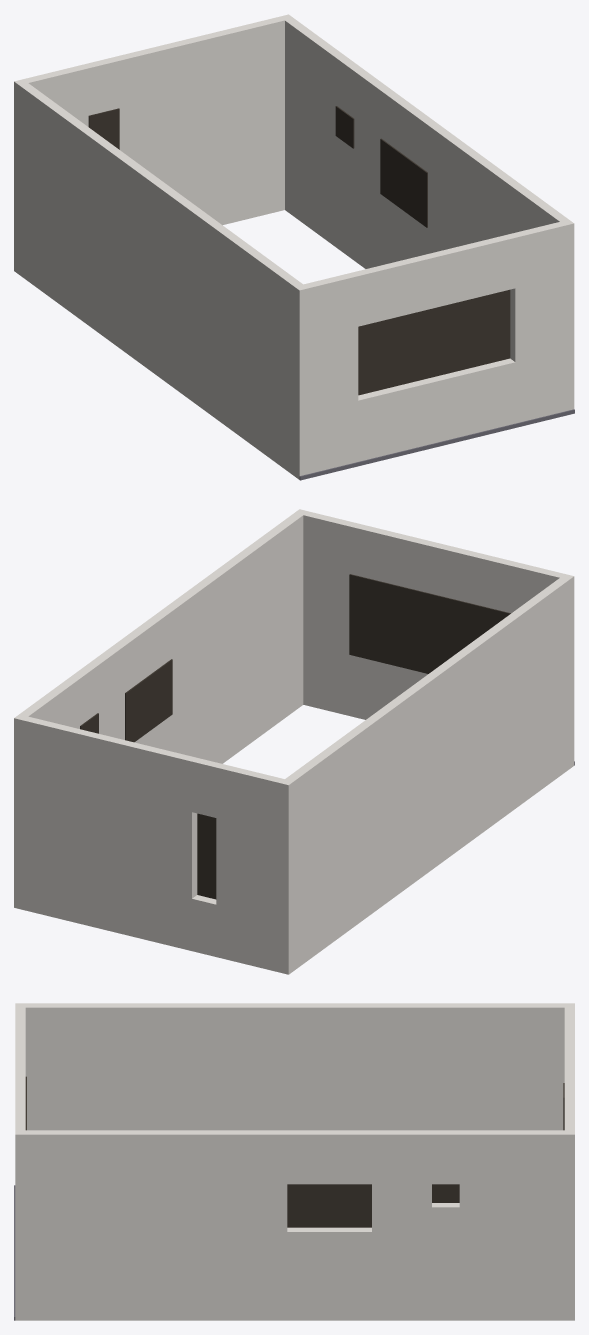
Rendered from SM_Floor_NarrowUpperWindowEndR_White_455_Back_01.gltf.
3 views of the same model, one above another, from view 1: azimuth 30°, elevation 25°; view 2: azimuth 150°, elevation 25°; view 3: azimuth 270°, elevation 25° (orthographic). The views are drawn at different scales.
Visible parts, largest first — view 1: SM_Floor_NarrowUpperWindowEndR_White_455_Back_01; view 2: SM_Floor_NarrowUpperWindowEndR_White_455_Back_01; view 3: SM_Floor_NarrowUpperWindowEndR_White_455_Back_01.
Boxes of the visible parts, x1,y1,x2,y2 form: SM_Floor_NarrowUpperWindowEndR_White_455_Back_01: (14, 14, 574, 480); SM_Floor_NarrowUpperWindowEndR_White_455_Back_01: (14, 509, 574, 974); SM_Floor_NarrowUpperWindowEndR_White_455_Back_01: (14, 1003, 574, 1320).
Bounding box in the file's own units: 4.55 × 3 × 8.21.
1 material, 1 textured.
